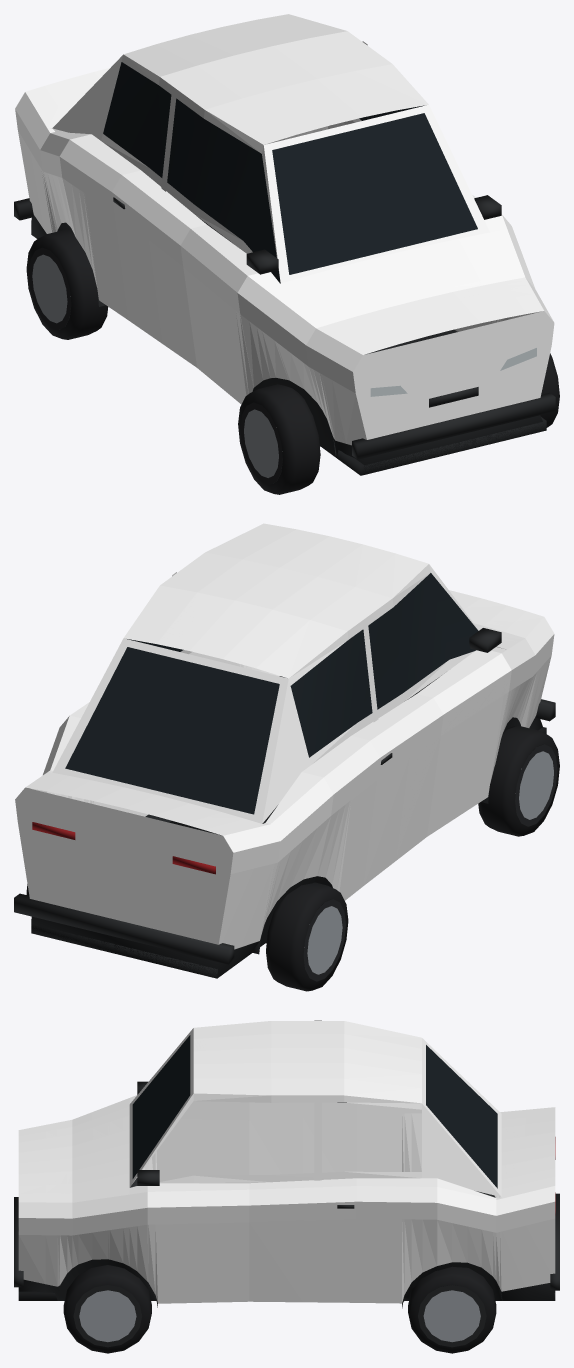
Rendered from ipora_semente.glb.
3 renders of one model, top to bottom at view 1: azimuth 30°, elevation 25°; view 2: azimuth 150°, elevation 25°; view 3: azimuth 270°, elevation 25°, orthographic. The views are drawn at different scales.
Parts seen in each view (by area): view 1: Body_Paint, Body_Details, Mount_FrontLeft_Wheel_Details, Mount_RearLeft_Wheel_Details, Mount_FrontRight_Wheel_Details; view 2: Body_Paint, Body_Details, Mount_RearLeft_Wheel_Details, Mount_FrontLeft_Wheel_Details; view 3: Body_Paint, Body_Details, Mount_FrontRight_Wheel_Details, Mount_RearRight_Wheel_Details.
Boxes of the visible parts, x1=… form: Body_Paint: x1=15, y1=14, x2=554, y2=445; Body_Details: x1=14, y1=62, x2=555, y2=475; Mount_FrontLeft_Wheel_Details: x1=238, y1=384, x2=320, y2=494; Mount_RearLeft_Wheel_Details: x1=26, y1=229, x2=108, y2=339; Mount_FrontRight_Wheel_Details: x1=540, y1=353, x2=559, y2=427; Body_Paint: x1=15, y1=523, x2=554, y2=949; Body_Details: x1=14, y1=573, x2=555, y2=978; Mount_RearLeft_Wheel_Details: x1=266, y1=882, x2=348, y2=991; Mount_FrontLeft_Wheel_Details: x1=478, y1=725, x2=559, y2=836; Body_Paint: x1=18, y1=1020, x2=555, y2=1303; Body_Details: x1=14, y1=1035, x2=559, y2=1308; Mount_FrontRight_Wheel_Details: x1=63, y1=1265, x2=151, y2=1353; Mount_RearRight_Wheel_Details: x1=408, y1=1266, x2=496, y2=1353.
Bounding box in the file's own units: 1.49 × 1.57 × 3.15.
Materials: 2 (1 with a texture image).
